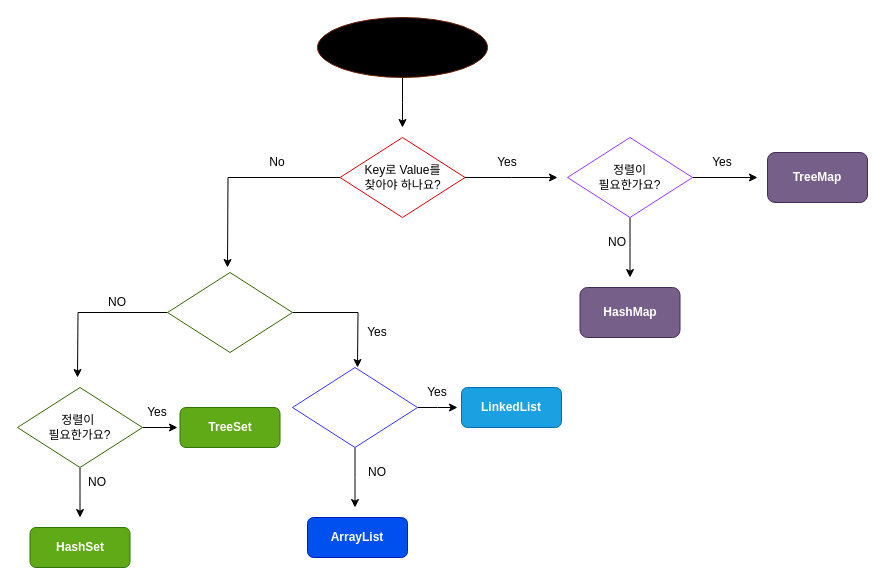
Some shapes in this 885 by 585 pixel diagram are drawn without their labels. The centre of each missing label's shape, as x and y in pixels:
데이터를 저장해야 한다: (x=402, y=47)
중간 삽입/삭제가 매우 빈번한가요?: (x=355, y=407)
중복을 허용 하나요?: (x=229, y=312)
